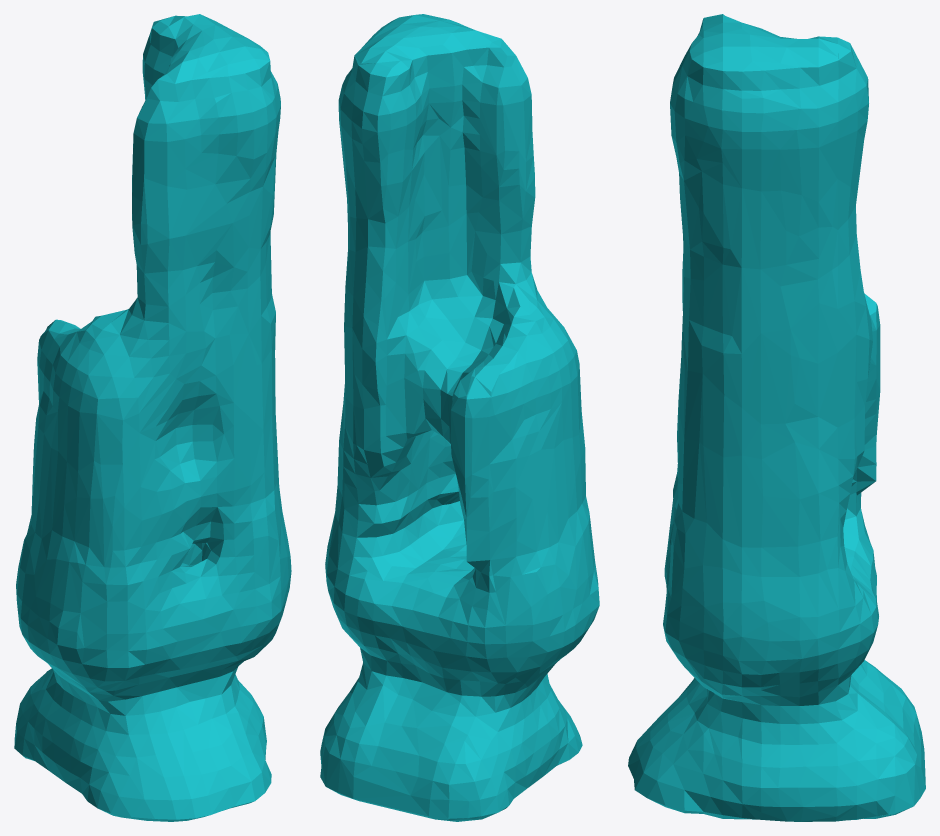
3 renders of one model, left to right at view 1: azimuth 30°, elevation 25°; view 2: azimuth 150°, elevation 25°; view 3: azimuth 270°, elevation 25°, orthographic. The views are drawn at different scales.
Parts seen in each view (by area): view 1: Liquid_Domain; view 2: Liquid_Domain; view 3: Liquid_Domain.
Boxes of the visible parts, x1,y1,x2,y2 form: Liquid_Domain: (14, 14, 291, 821); Liquid_Domain: (320, 14, 599, 821); Liquid_Domain: (628, 14, 925, 821).
Bounding box in the file's own units: 37.04 × 108 × 37.39.
